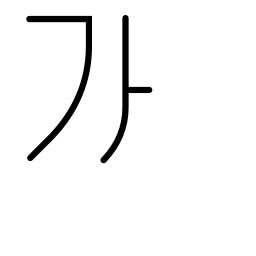Gaji: (108, 74, 145, 111)
